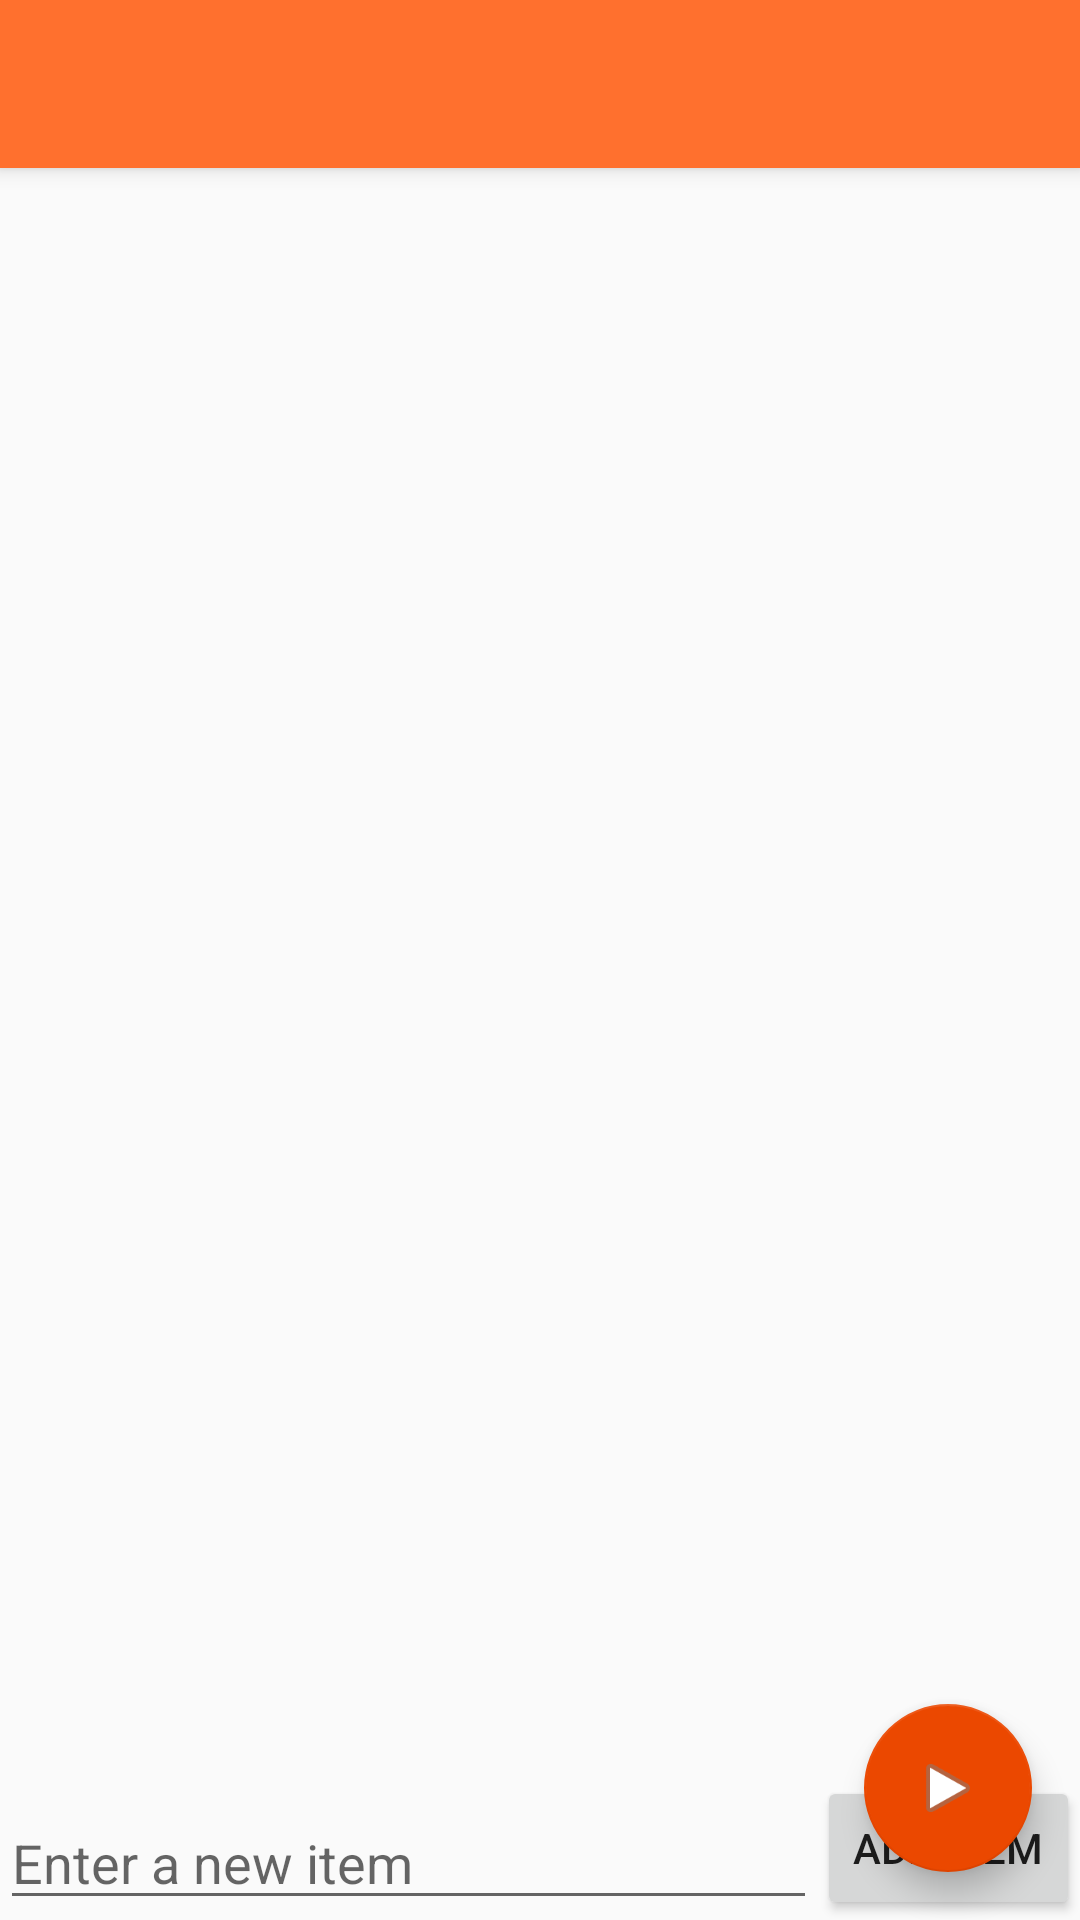

Icons on this 1080 x 1920 Android screen, each with the point to tap as (x=x, y=y):
play: (x=948, y=1788)
